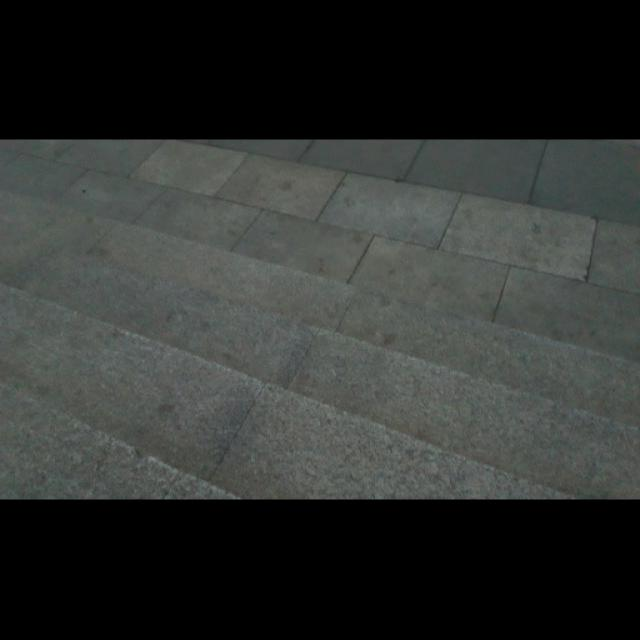stair: (0, 262, 594, 490)
